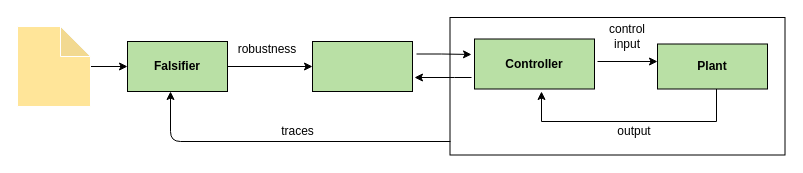
Image size: 803x173. Some labels were removed from this diagram. The box of each missing label's shape, as (x1, y1, x2, y2) in pixels:
Controller Synthesis Algorithm: (312, 40, 412, 92)
STL Spec: (16, 26, 90, 106)
